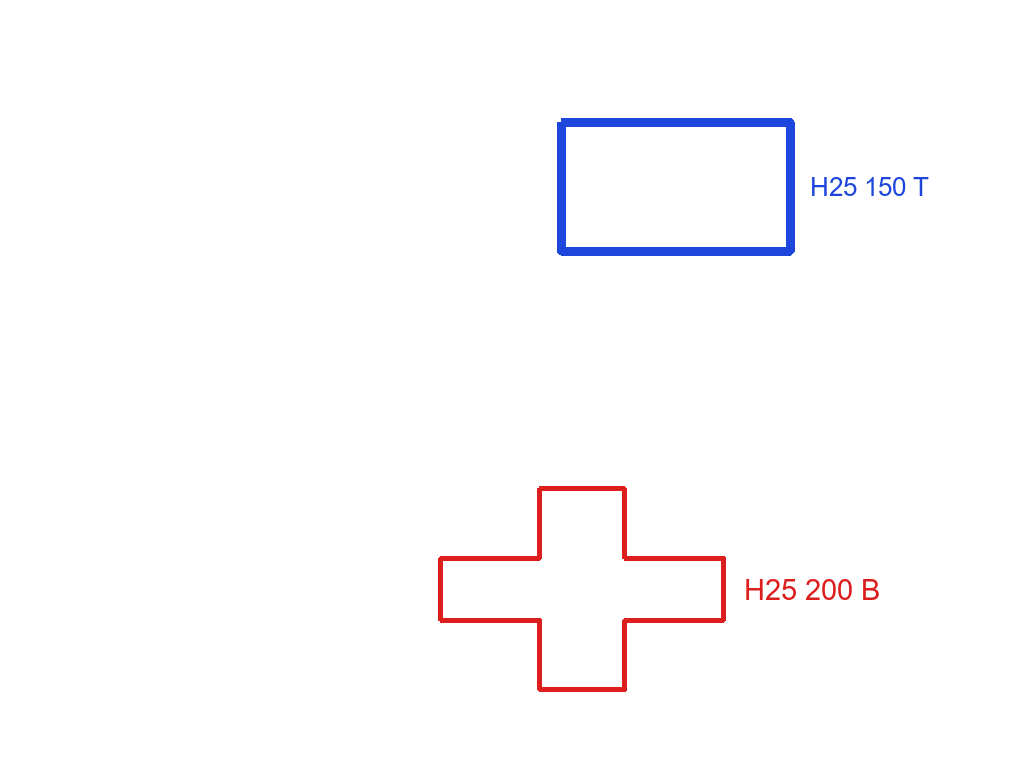shape: (436, 484, 728, 694), (555, 116, 797, 258)
text: (742, 577, 882, 602), (808, 175, 931, 198)
